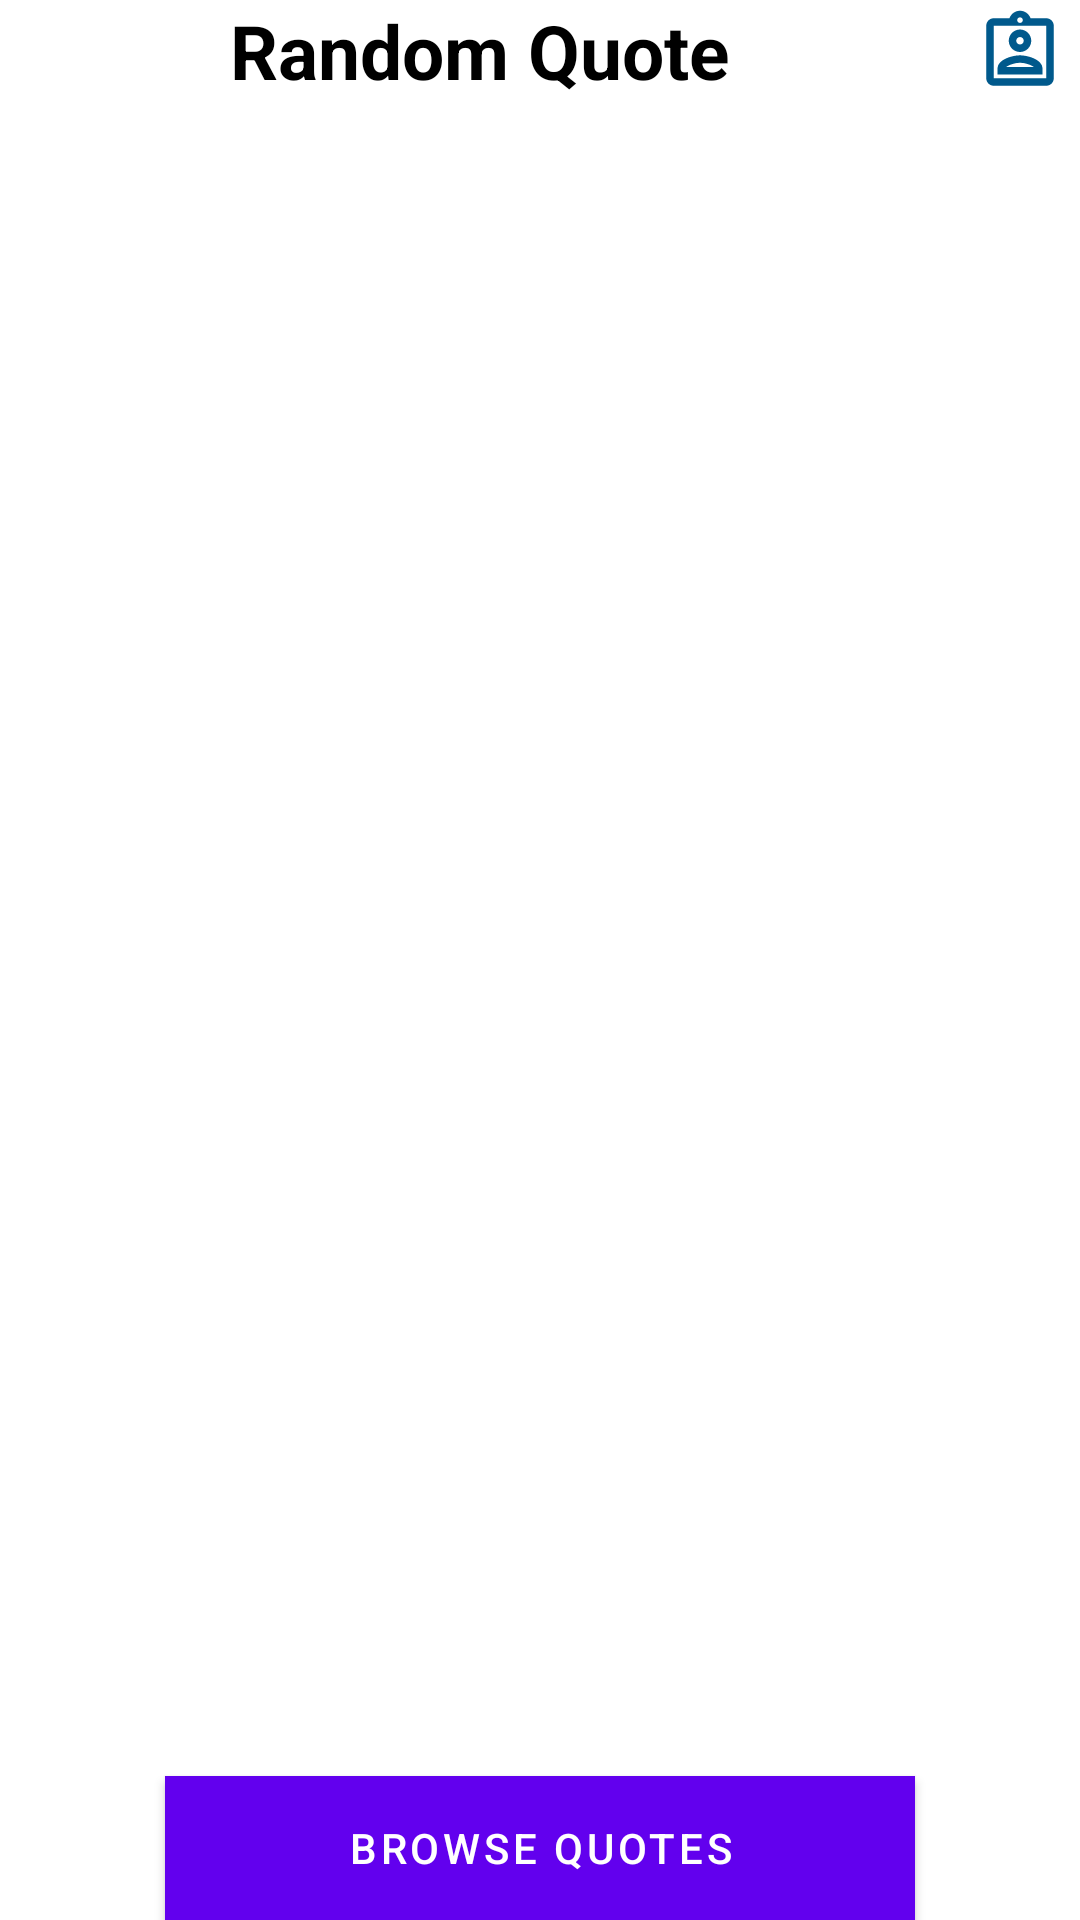

Icon bounding boxes for this 1080x1920 phone screenshot, format (x1, y1, x2, y2):
account: (986, 10, 1054, 86)
